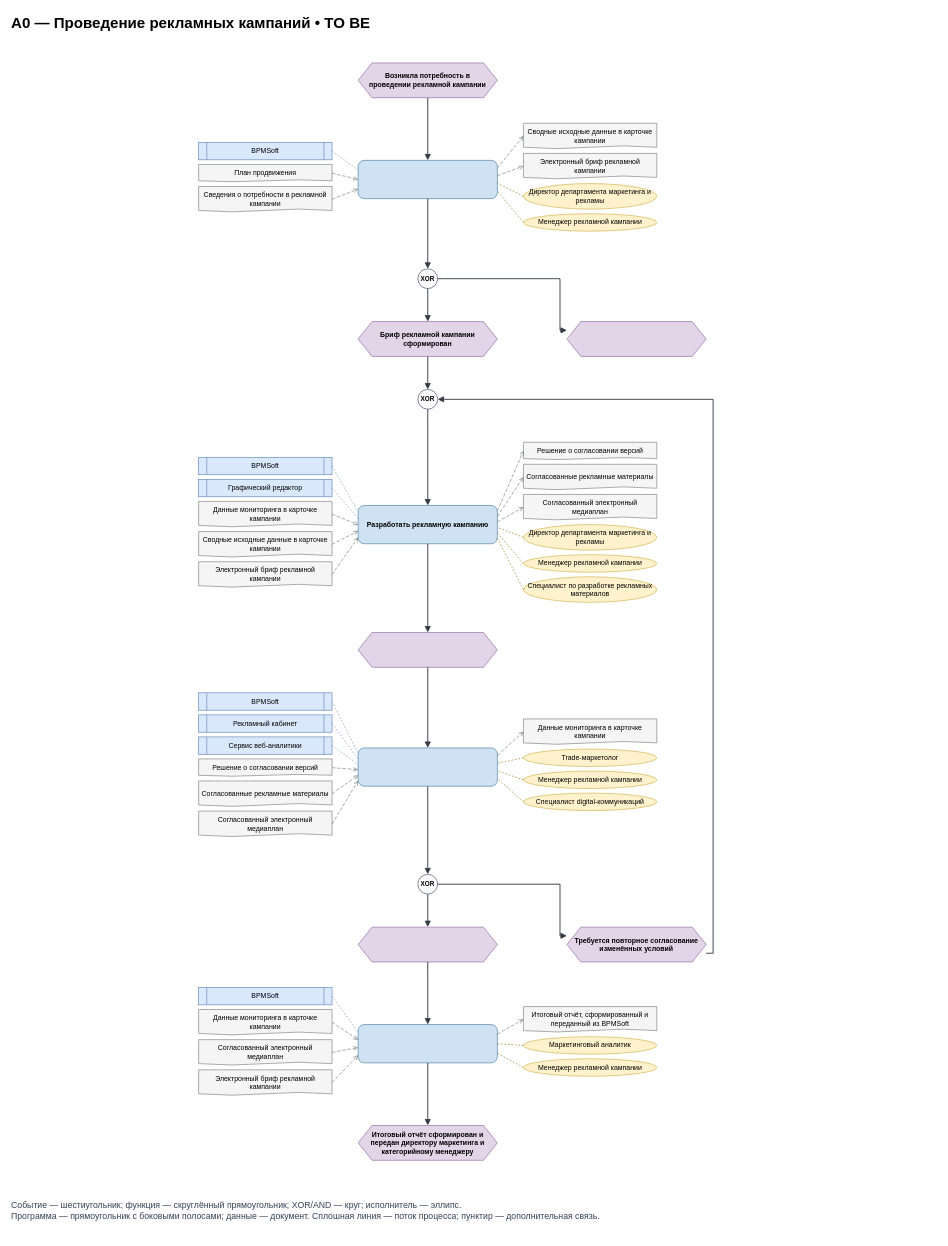
Image size: 948x1246. Some labels were removed from this diagram. Here are the shapes that lost their labels. From the top down, the centre of each, then its label:
At pixel 427 179: "Подготовить рекламную кампанию".
At pixel 636 338: "Оформлено решение об отказе от проведения кампании".
At pixel 427 649: "Медиаплан и рекламные материалы согласованы".
At pixel 427 766: "Запустить и сопровождать рекламную кампанию".
At pixel 427 944: "Период кампании завершён; данные мониторинга подготовлены".
At pixel 427 1043: "Оценить результаты рекламной кампании".
